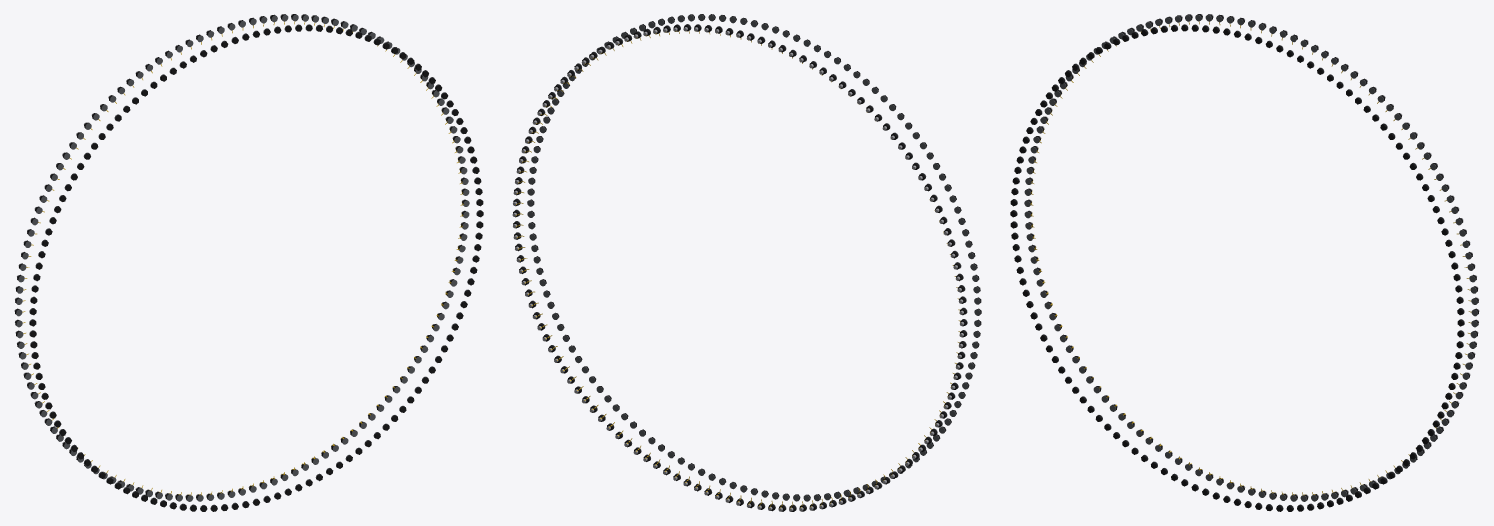
Rendered from flange_2_bolts_ok.glb.
3 renders of one model, left to right at view 1: azimuth 30°, elevation 25°; view 2: azimuth 150°, elevation 25°; view 3: azimuth 330°, elevation 25°, orthographic.
Parts seen in each view (by area): view 1: flange_2_bolts_ok; view 2: flange_2_bolts_ok; view 3: flange_2_bolts_ok.
Boxes of the visible parts, box(x1,y1,x2,y2) form: flange_2_bolts_ok: box(14, 14, 483, 511); flange_2_bolts_ok: box(512, 14, 981, 511); flange_2_bolts_ok: box(1010, 14, 1479, 511).
Size of the model in its own units: 5.72 by 5.72 by 0.384.
